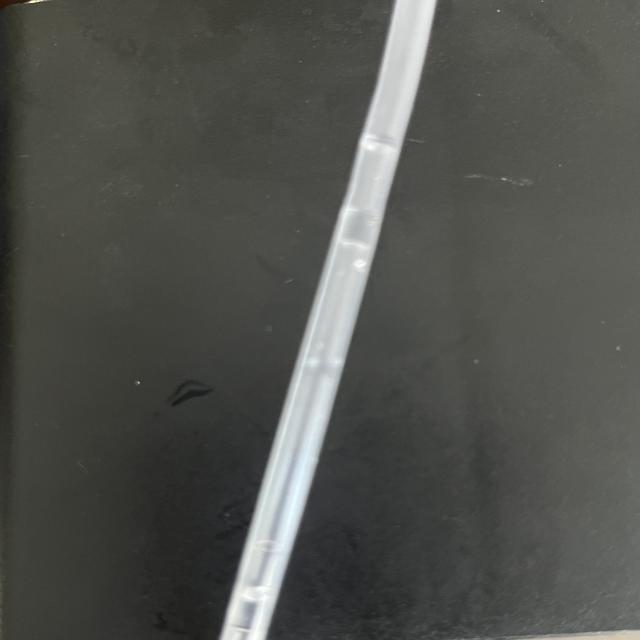bubble: (323, 137, 416, 219), (227, 554, 294, 611)
